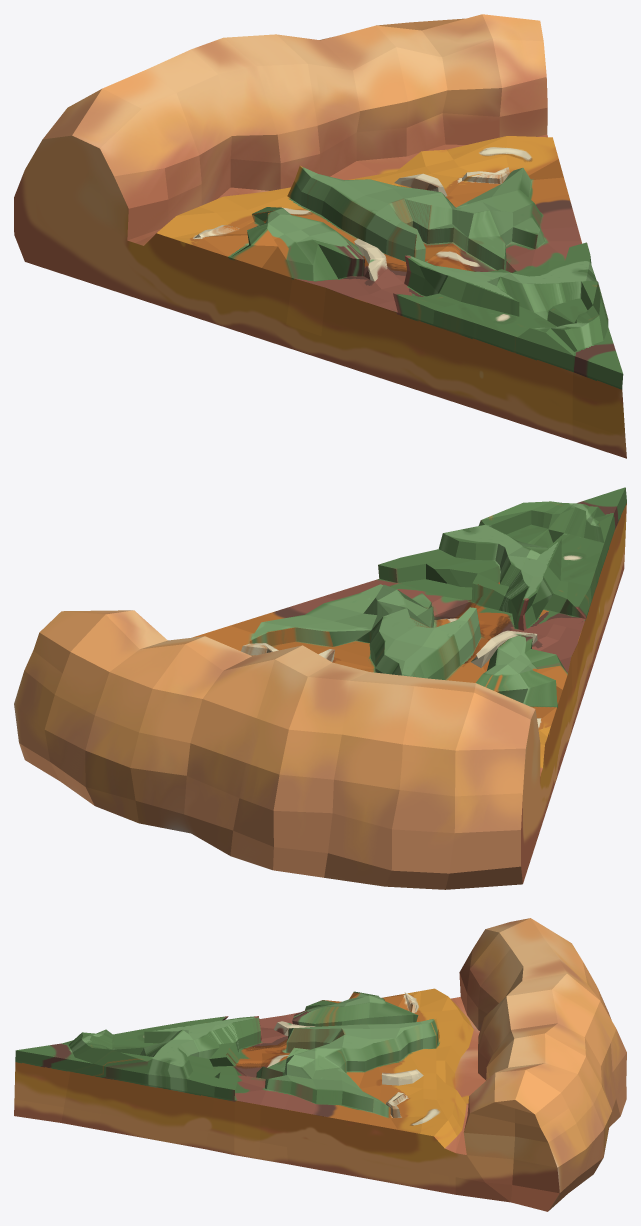
Rendered from pizza_P2.fbx.
3 renders of one model, top to bottom at view 1: azimuth 30°, elevation 25°; view 2: azimuth 150°, elevation 25°; view 3: azimuth 270°, elevation 25°, orthographic. The views are drawn at different scales.
Parts seen in each view (by area): view 1: Cylinder.005; view 2: Cylinder.005; view 3: Cylinder.005.
Boxes of the visible parts, left/top/right/bottom form: Cylinder.005: left=14, top=14, right=626, bottom=458; Cylinder.005: left=14, top=487, right=626, bottom=889; Cylinder.005: left=14, top=918, right=626, bottom=1211.
Size of the model in its own units: 120 by 37.49 by 161.
1 material, 1 textured.
